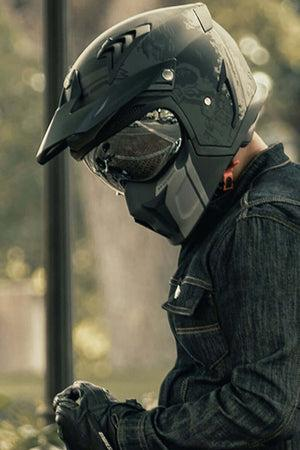Helmet: (36, 2, 266, 261)
